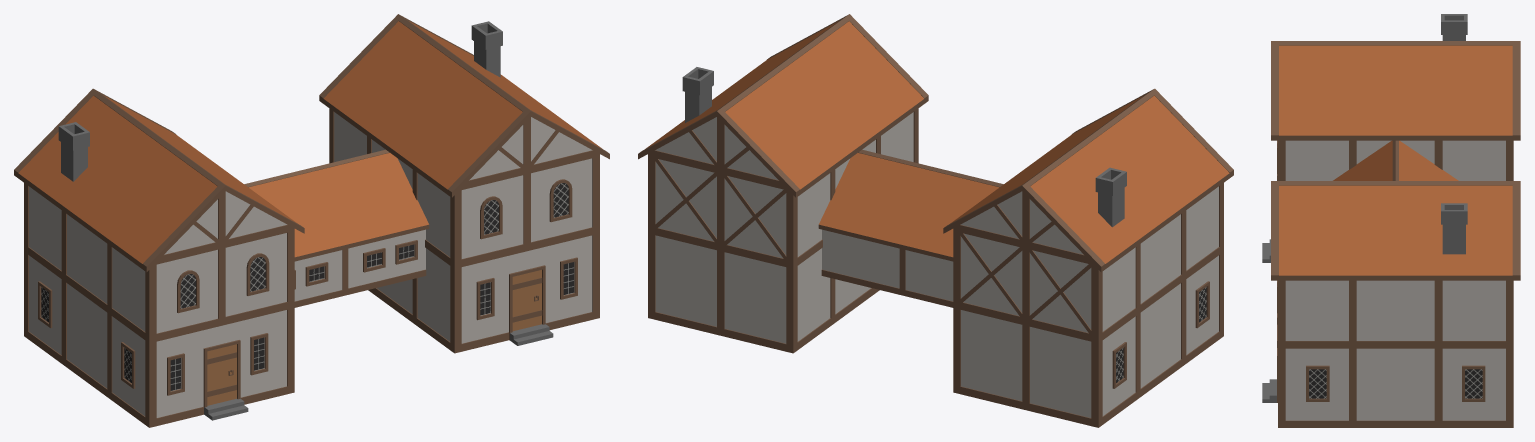
Rendered from SPW_Medieval_Bldg_03.glb.
The picture shows the model from 3 angles, left to right: view 1: azimuth 30°, elevation 25°; view 2: azimuth 150°, elevation 25°; view 3: azimuth 270°, elevation 25°; orthographic projection. The views are drawn at different scales.
Visible parts, largest first — view 1: SPW_Medieval_Bldg_03; view 2: SPW_Medieval_Bldg_03; view 3: SPW_Medieval_Bldg_03.
Boxes of the visible parts, bbox=[...] form: SPW_Medieval_Bldg_03: bbox=[14, 14, 609, 427]; SPW_Medieval_Bldg_03: bbox=[638, 14, 1233, 427]; SPW_Medieval_Bldg_03: bbox=[1262, 14, 1520, 427].
Bounding box in the file's own units: 12.9 × 6.05 × 6.62.
Materials: 1 (1 with a texture image).
